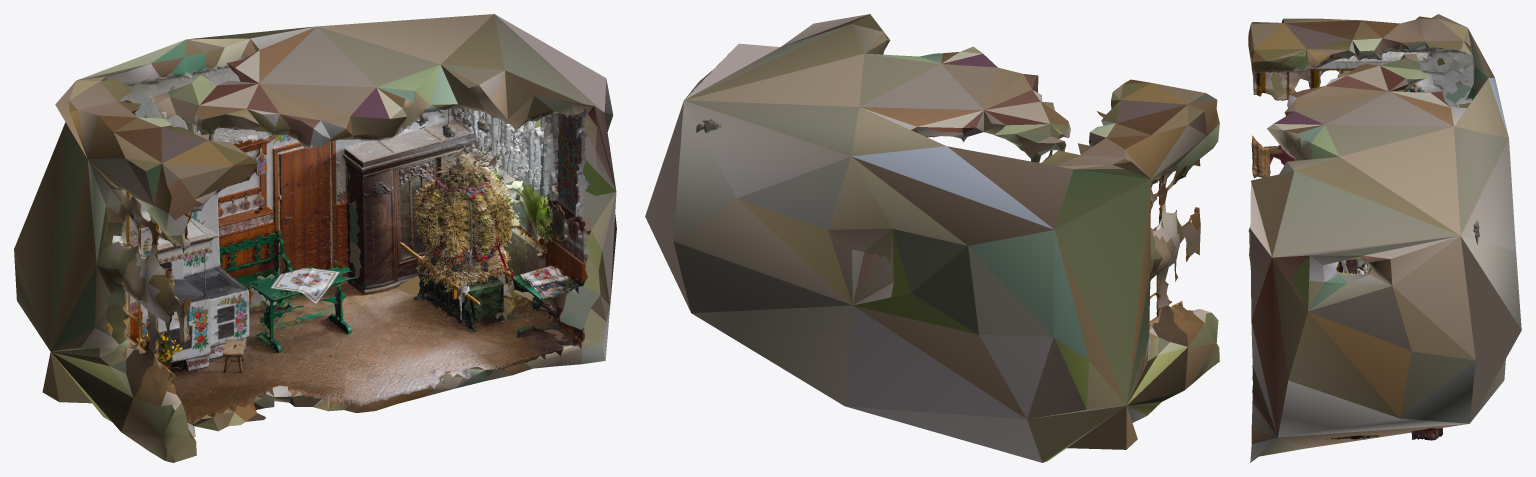
File: painting_opt.glb
3 views of the same model, side by side, from view 1: azimuth 30°, elevation 25°; view 2: azimuth 150°, elevation 25°; view 3: azimuth 270°, elevation 25° (orthographic). The views are drawn at different scales.
Visible parts, largest first — view 1: Object_2; view 2: Object_2; view 3: Object_2.
Boxes of the visible parts, box(x1,y1,x2,y2) form: Object_2: box(14, 14, 616, 462); Object_2: box(645, 14, 1219, 462); Object_2: box(1248, 14, 1521, 462).
Size of the model in its own units: 46.03 by 26.87 by 24.91.
Materials: 1 (1 with a texture image).
